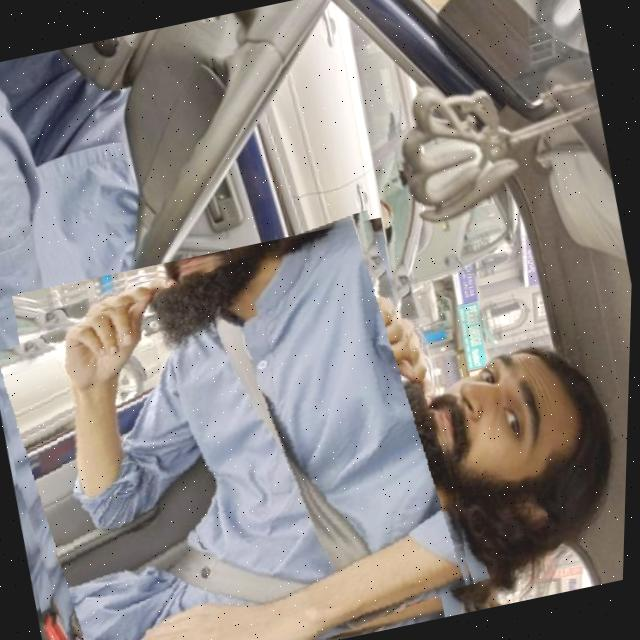seatbelt: (0, 212, 496, 640)
